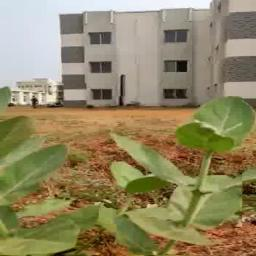Calotropis: (116, 96, 244, 255), (0, 83, 100, 256)
